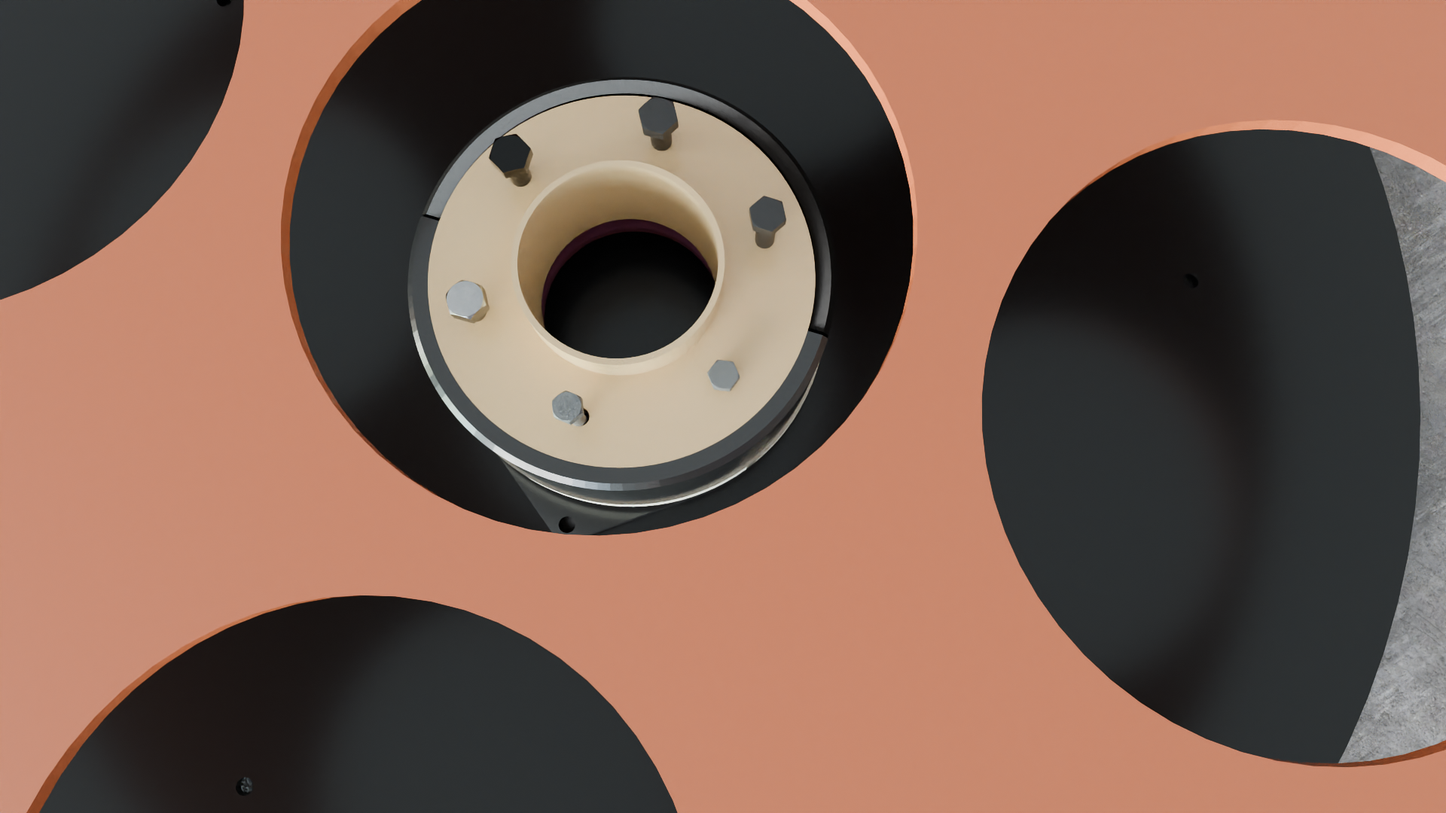bolt: (446, 280, 487, 320), (489, 134, 531, 173), (638, 96, 678, 134), (749, 196, 786, 232), (552, 391, 583, 423), (707, 360, 740, 389)
